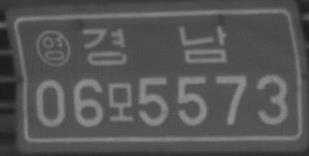0: (34, 78, 66, 128)
3: (255, 72, 289, 126)
5: (175, 74, 208, 128), (138, 75, 169, 127)
6: (72, 77, 104, 128)
7: (214, 73, 247, 127)
경남_D: (82, 24, 228, 66)
모: (107, 81, 135, 122)
영: (34, 29, 71, 67)
